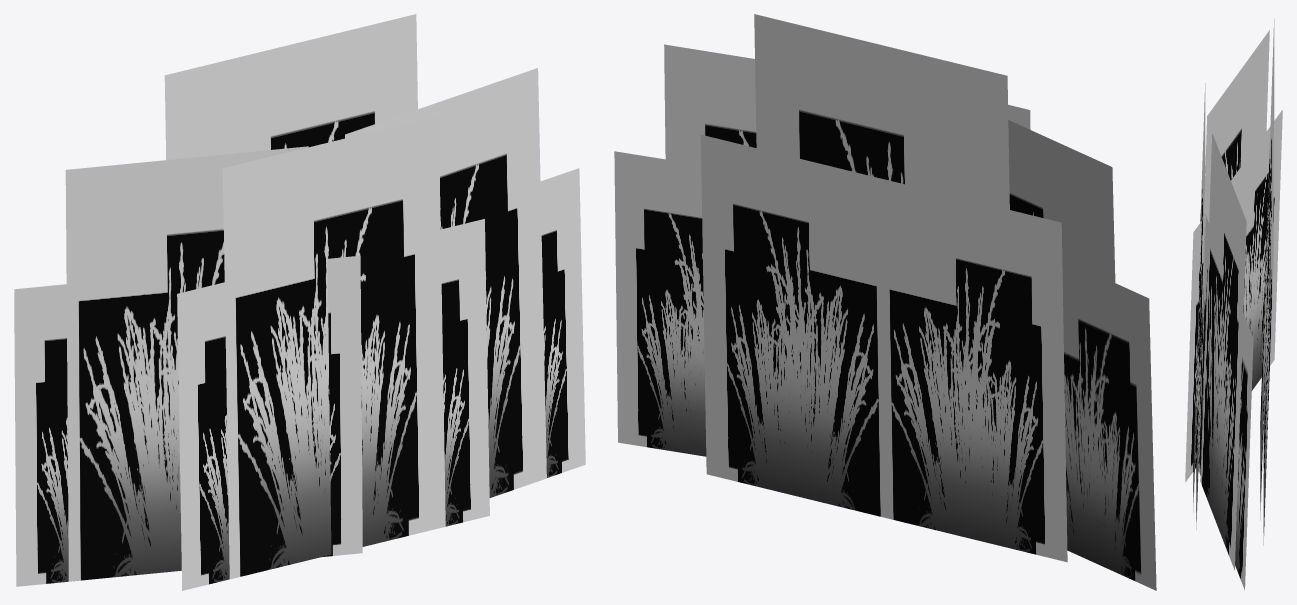
Rendered from grass test.fbx.
The picture shows the model from 3 angles, left to right: view 1: azimuth 30°, elevation 25°; view 2: azimuth 150°, elevation 25°; view 3: azimuth 270°, elevation 25°; orthographic projection. The views are drawn at different scales.
Visible parts, largest first — view 1: pPlane25; view 2: pPlane25; view 3: pPlane25.
Part boxes in pixels (x1,y1,x2,y2): pPlane25: (14, 14, 585, 590); pPlane25: (614, 14, 1156, 590); pPlane25: (1185, 18, 1282, 590).
Size of the model in its own units: 21.24 by 17.48 by 3.79.
